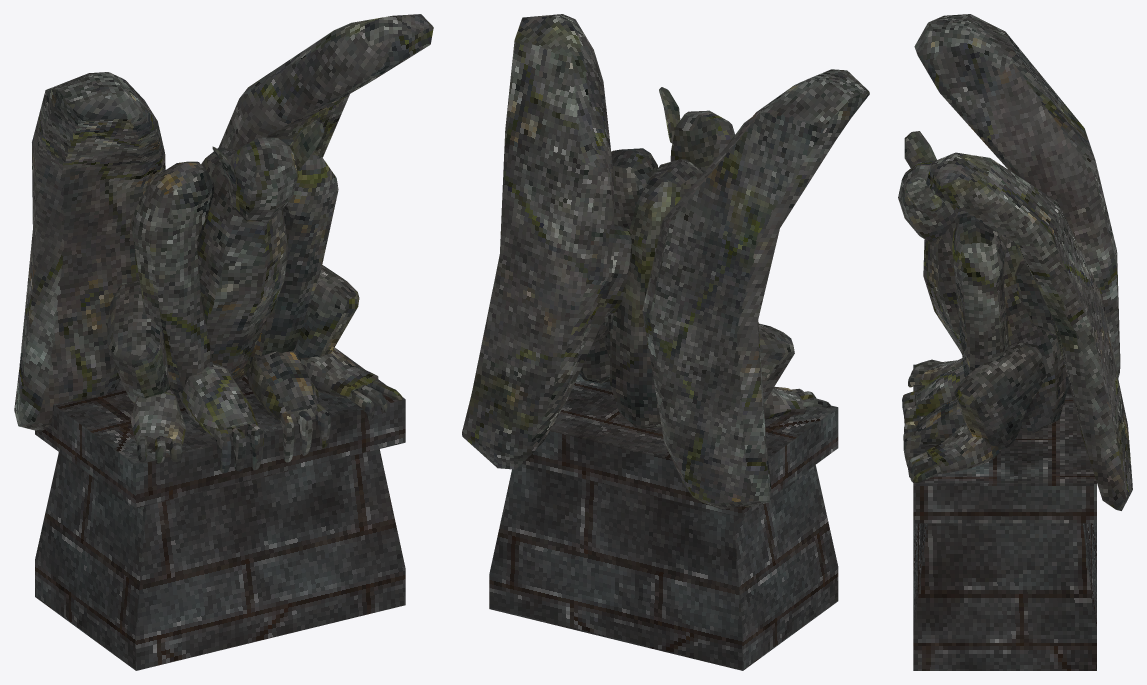
File: Gargoyle_Var_2.gltf
The picture shows the model from 3 angles, left to right: view 1: azimuth 30°, elevation 25°; view 2: azimuth 150°, elevation 25°; view 3: azimuth 270°, elevation 25°; orthographic projection. The views are drawn at different scales.
Visible parts, largest first — view 1: Gargoyle_Var_2; view 2: Gargoyle_Var_2; view 3: Gargoyle_Var_2.
Part boxes in pixels (x1,y1,x2,y2): Gargoyle_Var_2: (14, 14, 433, 670); Gargoyle_Var_2: (462, 14, 869, 670); Gargoyle_Var_2: (898, 14, 1132, 670).
Bounding box in the file's own units: 3.3 × 5.01 × 2.03.
1 material, 1 textured.
